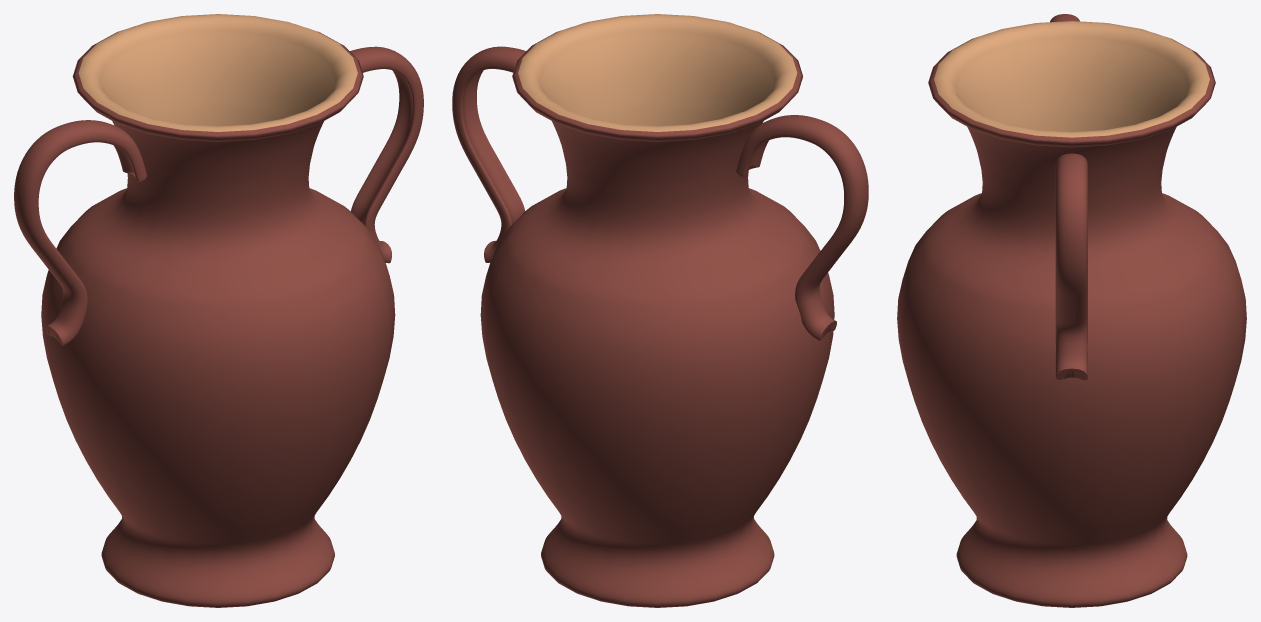
Rendered from vasefbx.fbx.
3 renders of one model, left to right at view 1: azimuth 30°, elevation 25°; view 2: azimuth 150°, elevation 25°; view 3: azimuth 270°, elevation 25°, orthographic.
Visible parts, largest first — view 1: polySurface1; view 2: polySurface1; view 3: polySurface1.
Boxes of the visible parts, x1=… form: polySurface1: x1=14, y1=14, x2=423, y2=607; polySurface1: x1=452, y1=14, x2=868, y2=607; polySurface1: x1=897, y1=14, x2=1246, y2=607.
Bounding box in the file's own units: 13.64 × 15.73 × 10.28.
